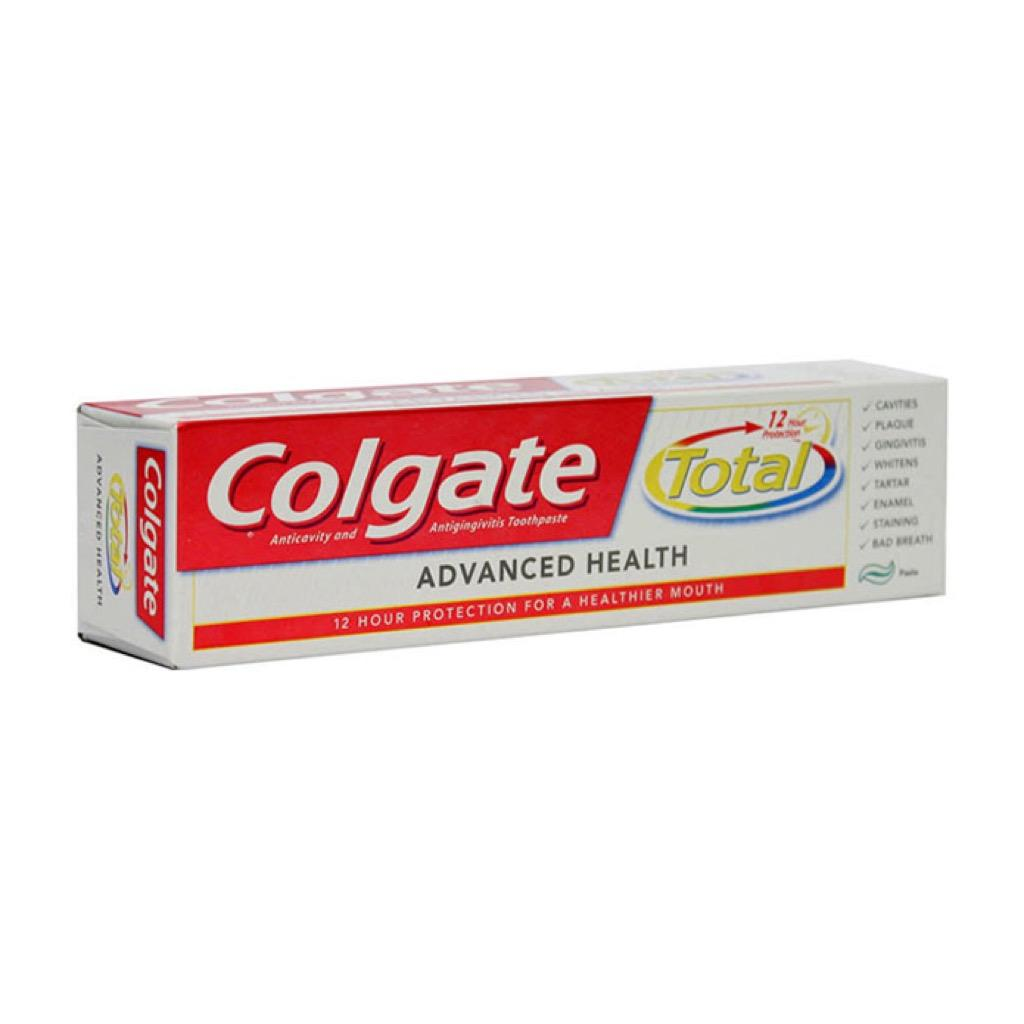toothpaste: (64, 342, 972, 677)
